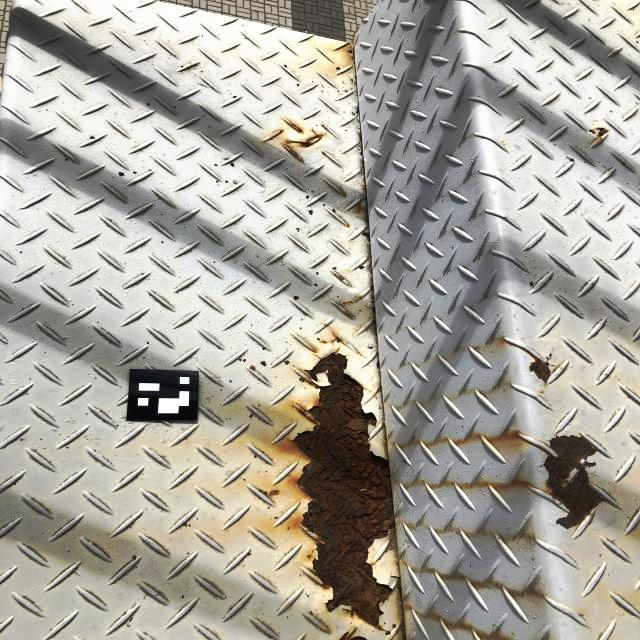Corrosion: (294, 353, 394, 627), (543, 435, 605, 529), (281, 128, 324, 159), (530, 360, 550, 383), (337, 631, 368, 640), (320, 333, 345, 344), (287, 121, 304, 134), (595, 127, 609, 137)
